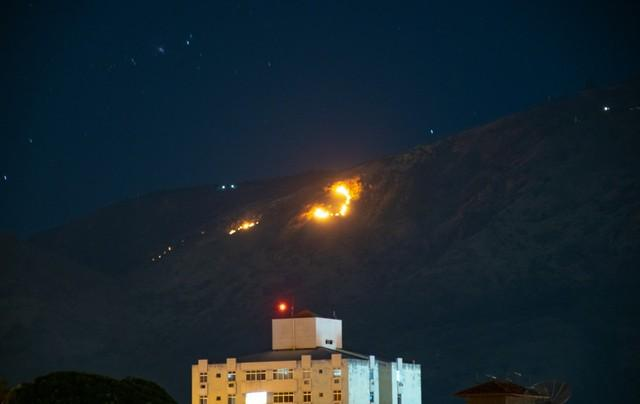fire: (329, 176, 352, 205), (307, 203, 341, 220)
